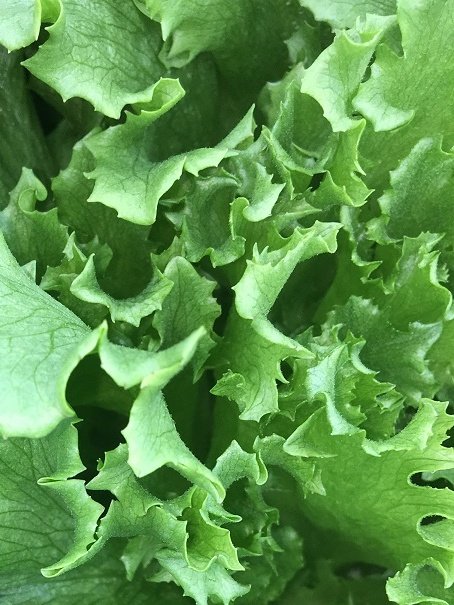tipburn: (143, 367, 163, 381), (211, 160, 222, 172)
